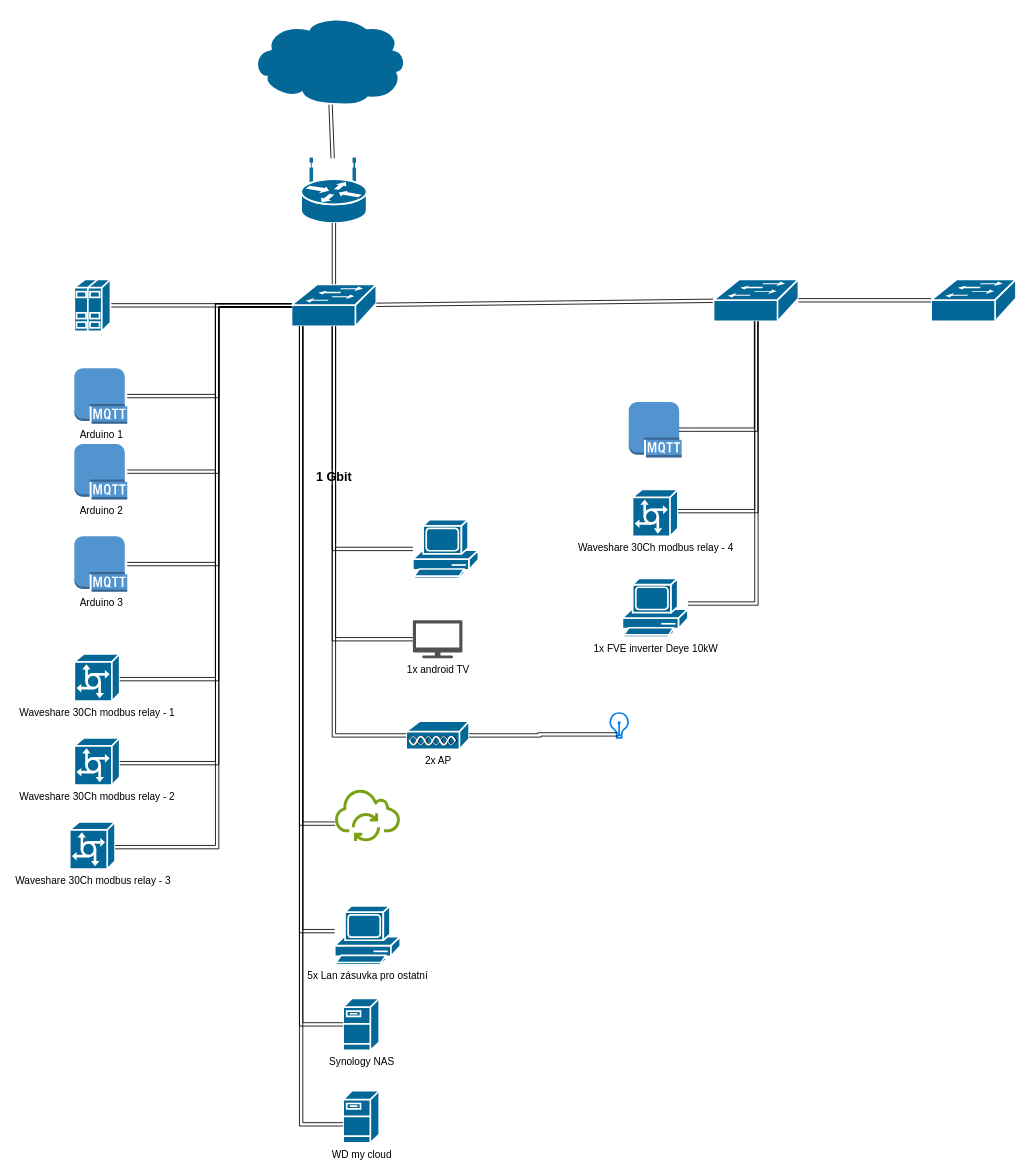
Image size: 1031x1174. Some labels were removed from this diagram. The centre of each missing label's shape, as x and y in pixels:
1x Rekuperace Komfovent R400V - C6M: pixel 367 814
5x Lan zásuvka pro počítače: pixel 445 548
Arduino 4: pixel 655 429
Internet: pixel 328 59
RPI 4B - Home assistant: pixel 92 305
Wifi - žárovky: pixel 618 725
